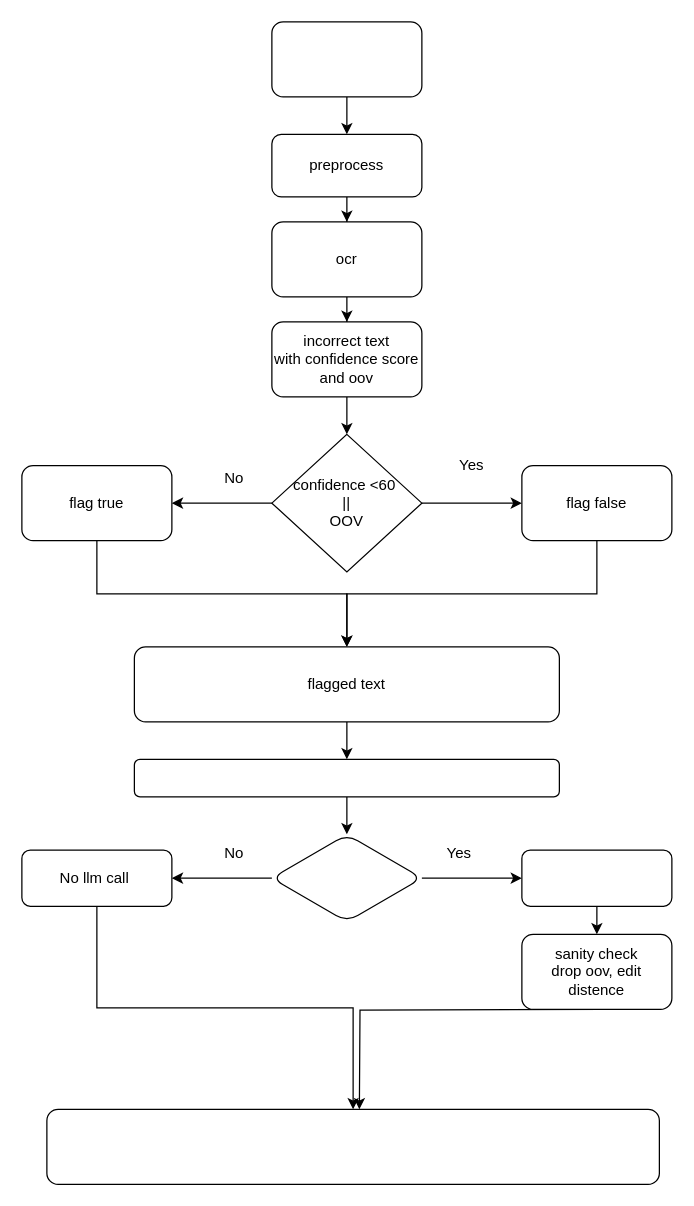
Some shapes in this 694 by 1206 pixel diagram are drawn without their labels. The centre of each missing label's shape, as x and y in pixels:
"call FT LLM" goes at pixel 596 877.
"cbhunk1,chunk2,chunk3,chunk4" goes at pixel 346 777.
"chunk has flagged words?" goes at pixel 346 877.
"img" goes at pixel 346 59.
"Merge Corrected chunks" goes at pixel 352 1146.
